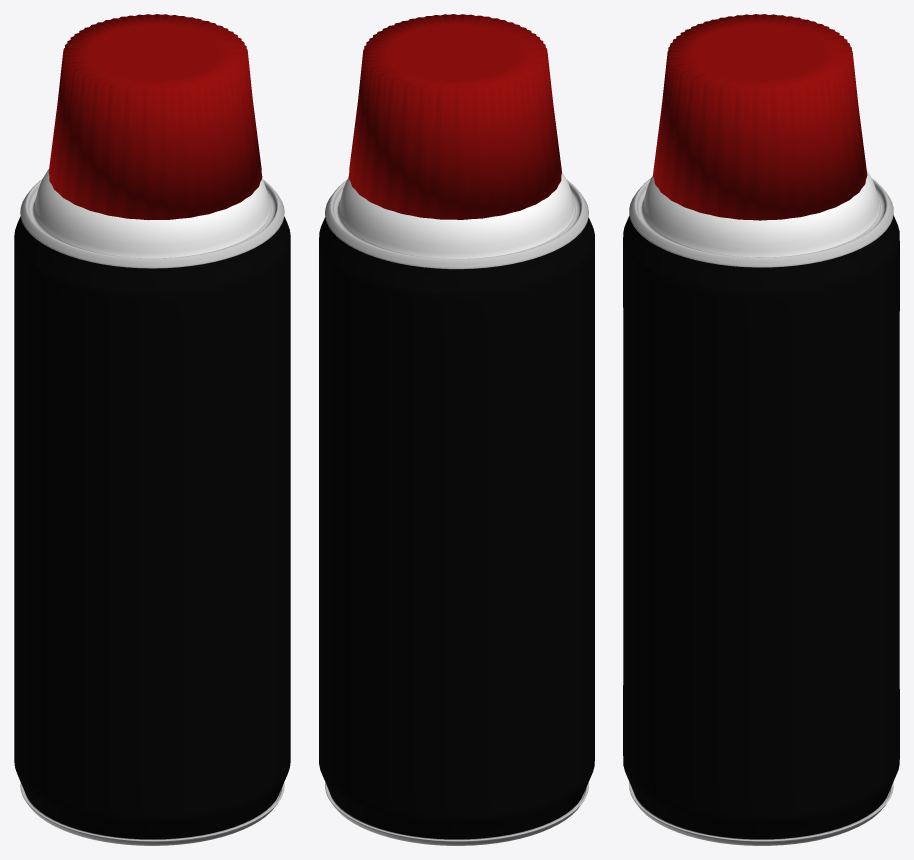
File: Spray_can_model (1).glb
3 views of the same model, side by side, from view 1: azimuth 30°, elevation 25°; view 2: azimuth 150°, elevation 25°; view 3: azimuth 270°, elevation 25° (orthographic).
Parts seen in each view (by area): view 1: SprayCan.1; view 2: SprayCan.1; view 3: SprayCan.1.
Part boxes in pixels (left/top/right/bottom): SprayCan.1: left=14, top=14, right=290, bottom=845; SprayCan.1: left=319, top=14, right=594, bottom=845; SprayCan.1: left=623, top=14, right=899, bottom=845.
Bounding box in the file's own units: 21 × 62.01 × 21.
